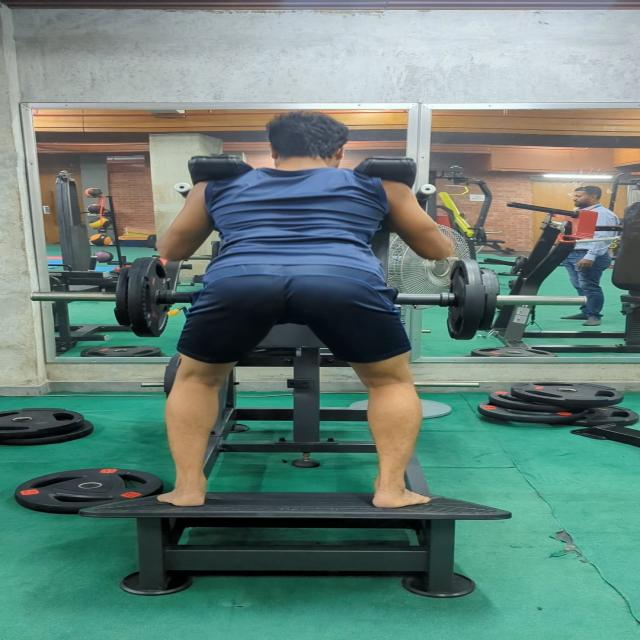Normal_SquatsWithBarbell: (125, 103, 466, 500)
